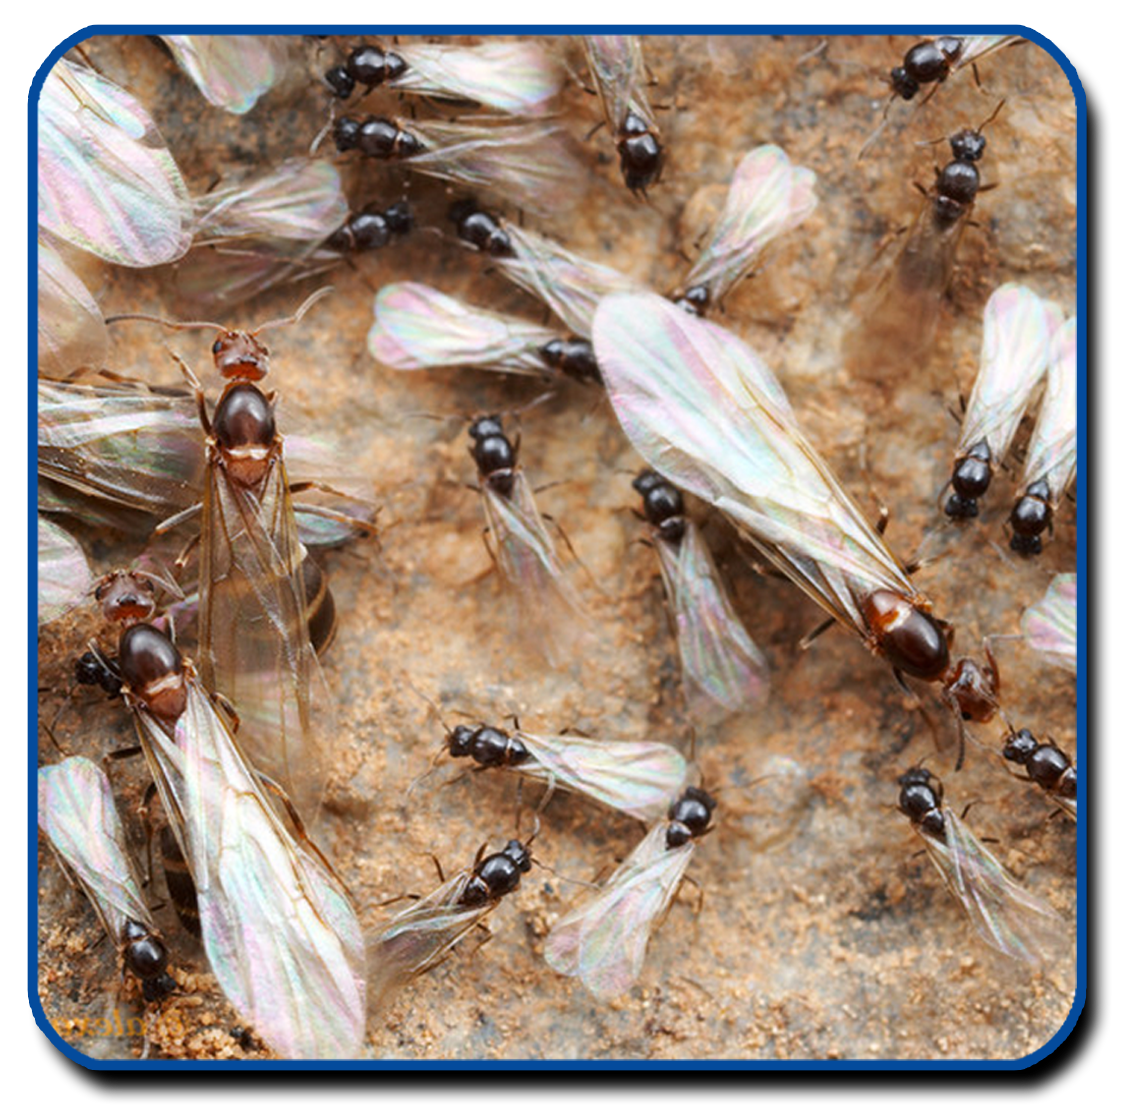flying termite: (570, 224, 969, 708), (150, 293, 371, 867), (874, 768, 1062, 1003), (557, 785, 737, 1027), (417, 403, 583, 630), (41, 757, 179, 1013), (862, 114, 980, 380), (438, 706, 700, 824), (378, 819, 547, 999), (324, 120, 588, 214), (937, 272, 1018, 511), (317, 43, 574, 118), (586, 36, 693, 191)
